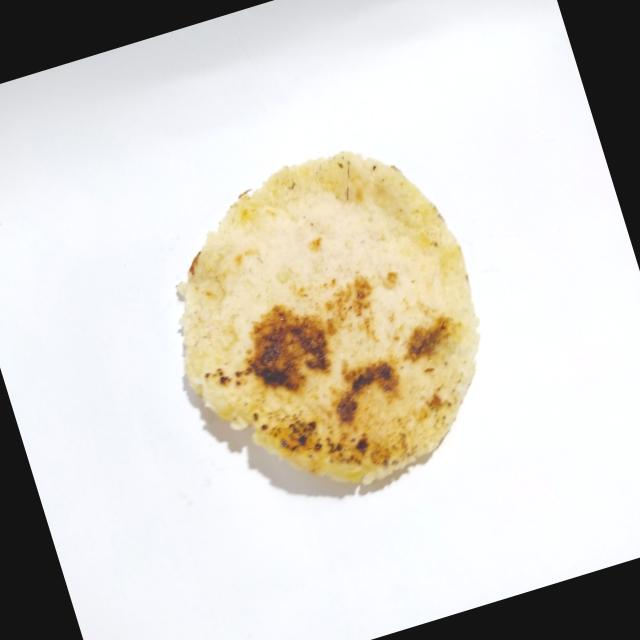Mbeju: (127, 113, 528, 538)
